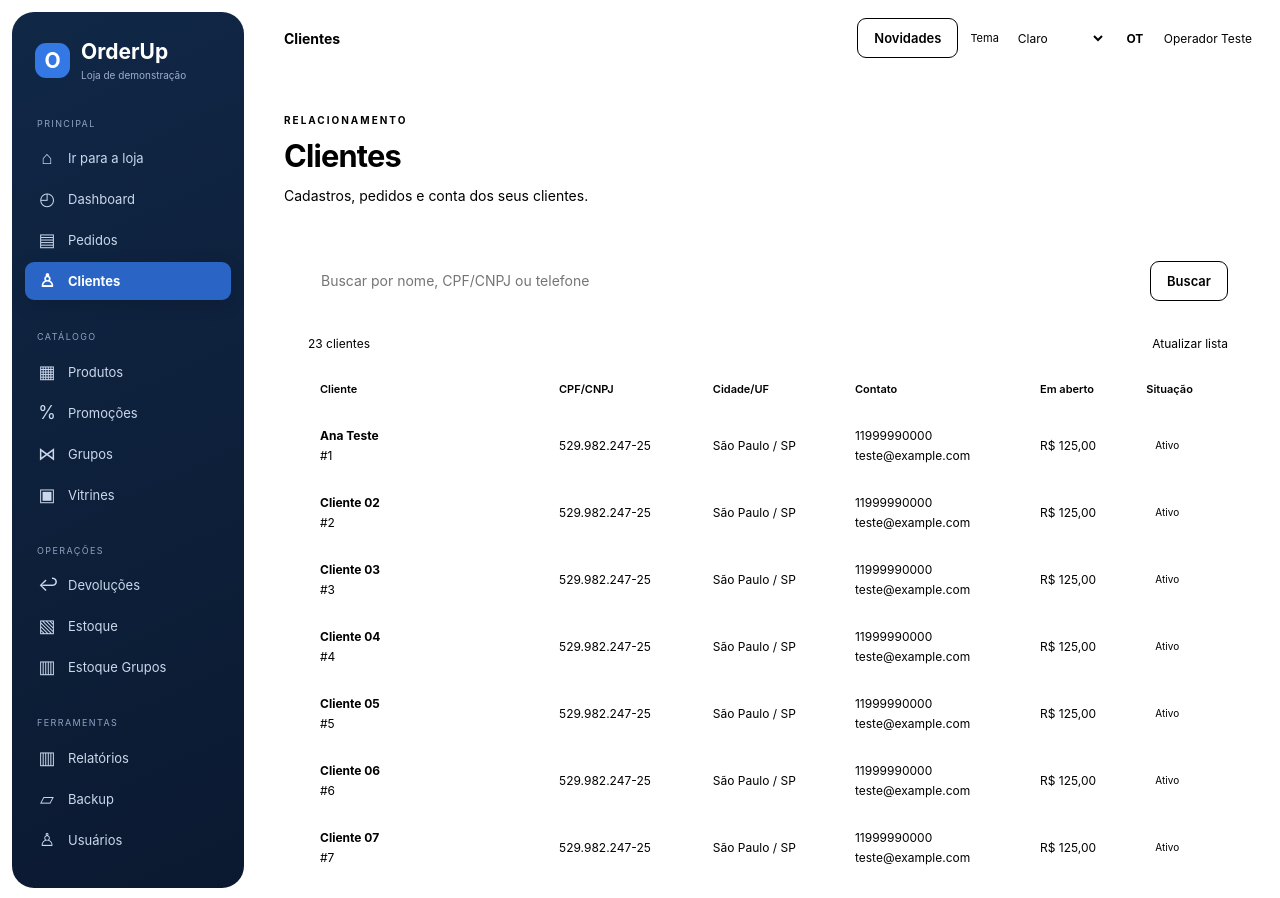
Test: navegação e sessão › volta ao login quando uma API informa sessão expirada
Expected: the button "Ana Teste" is shown, 320,428 -> 379,443
Click the button "Atualizar lista". click: point(1190, 344)
box: 1152,336 -> 1228,351
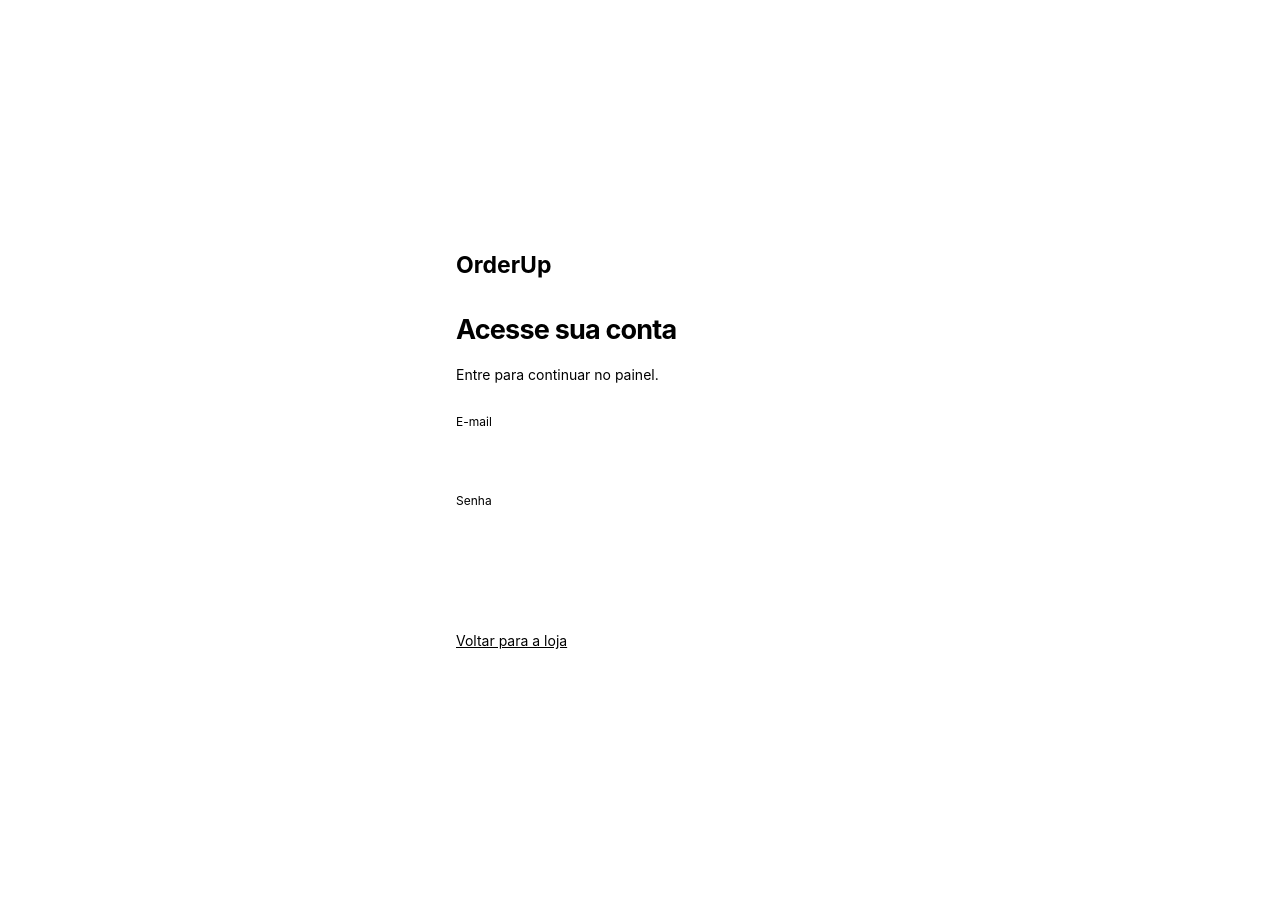
Now the heading "Acesse sua conta" is shown, box 456,313 -> 676,346
Now the button "Ana Teste" is gone
